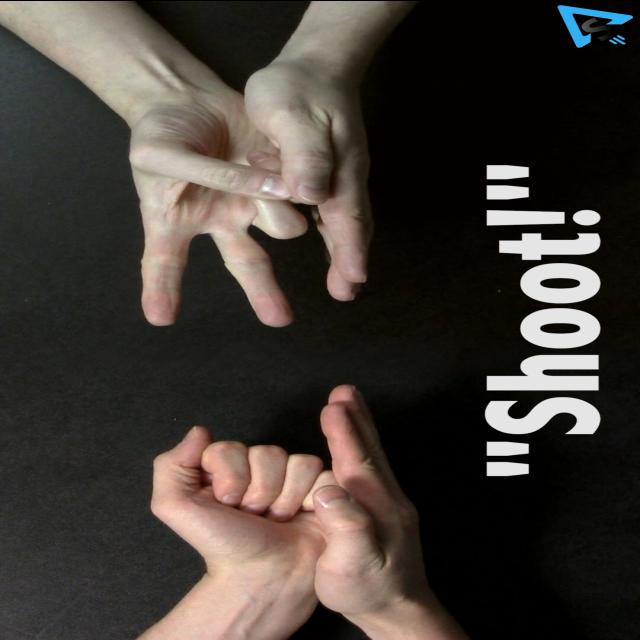Rock: (152, 422, 340, 572)
Scissors: (126, 88, 321, 326)
